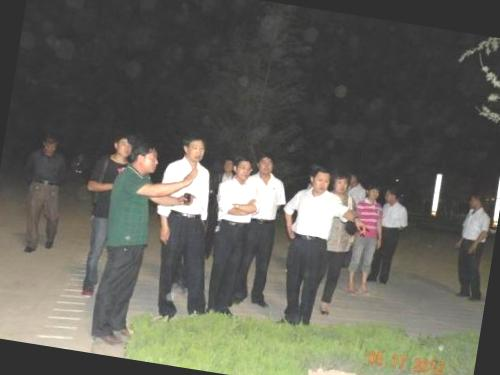no_helmet: (124, 130, 166, 178), (178, 130, 211, 166), (306, 160, 334, 194), (108, 129, 135, 161), (231, 152, 257, 184), (256, 150, 280, 181), (328, 168, 352, 196), (39, 128, 63, 155), (466, 189, 488, 213), (384, 182, 404, 204), (364, 180, 382, 202)
